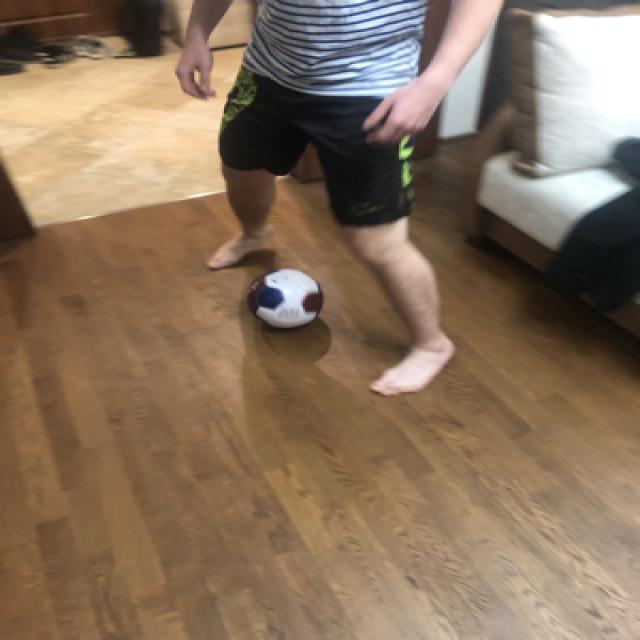soccer_ball: (241, 264, 322, 328)
